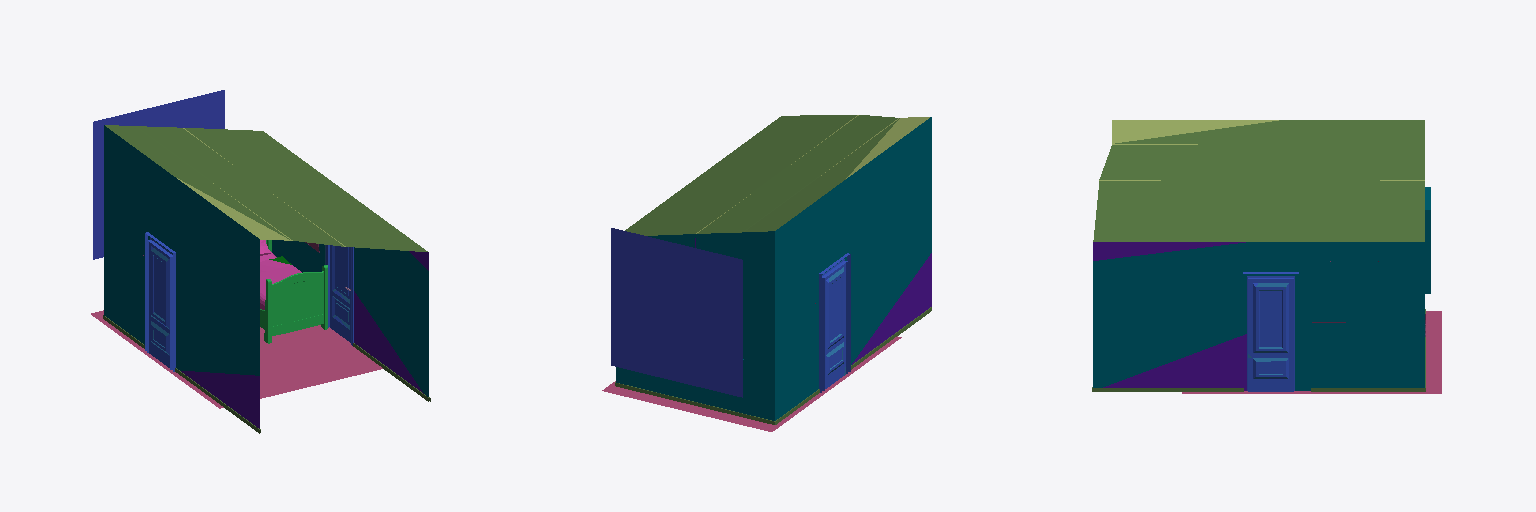
Rendered from Blender249.obj.
3 renders of one model, left to right at view 1: azimuth 30°, elevation 25°; view 2: azimuth 150°, elevation 25°; view 3: azimuth 270°, elevation 25°, orthographic.
Size of the model in its own units: 3.54 by 3.86 by 6.77.